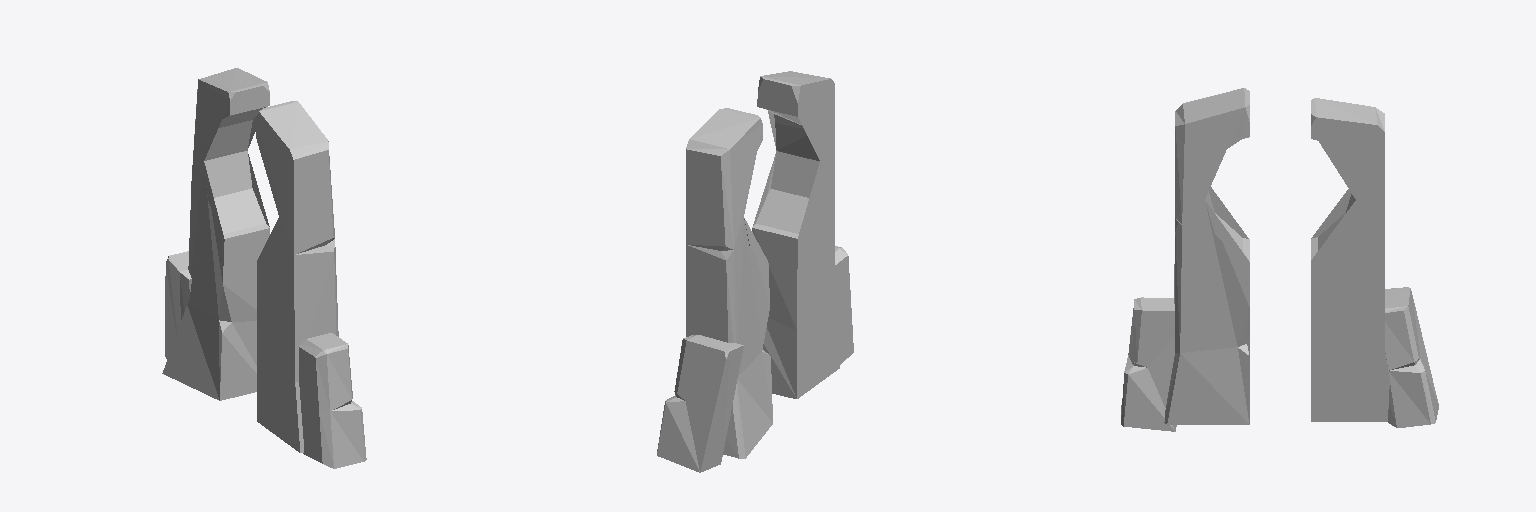
The model's file is landmark--pillars__02.obj.
3 views of the same model, side by side, from view 1: azimuth 30°, elevation 25°; view 2: azimuth 150°, elevation 25°; view 3: azimuth 270°, elevation 25° (orthographic).
Parts seen in each view (by area): view 1: pillars__02_Cube.008; view 2: pillars__02_Cube.008; view 3: pillars__02_Cube.008.
Part boxes in pixels (bbox=[...]): pillars__02_Cube.008: bbox=[162, 68, 366, 468]; pillars__02_Cube.008: bbox=[657, 71, 853, 472]; pillars__02_Cube.008: bbox=[1121, 88, 1438, 431].
Bounding box in the file's own units: 1.51 × 6.48 × 5.8.